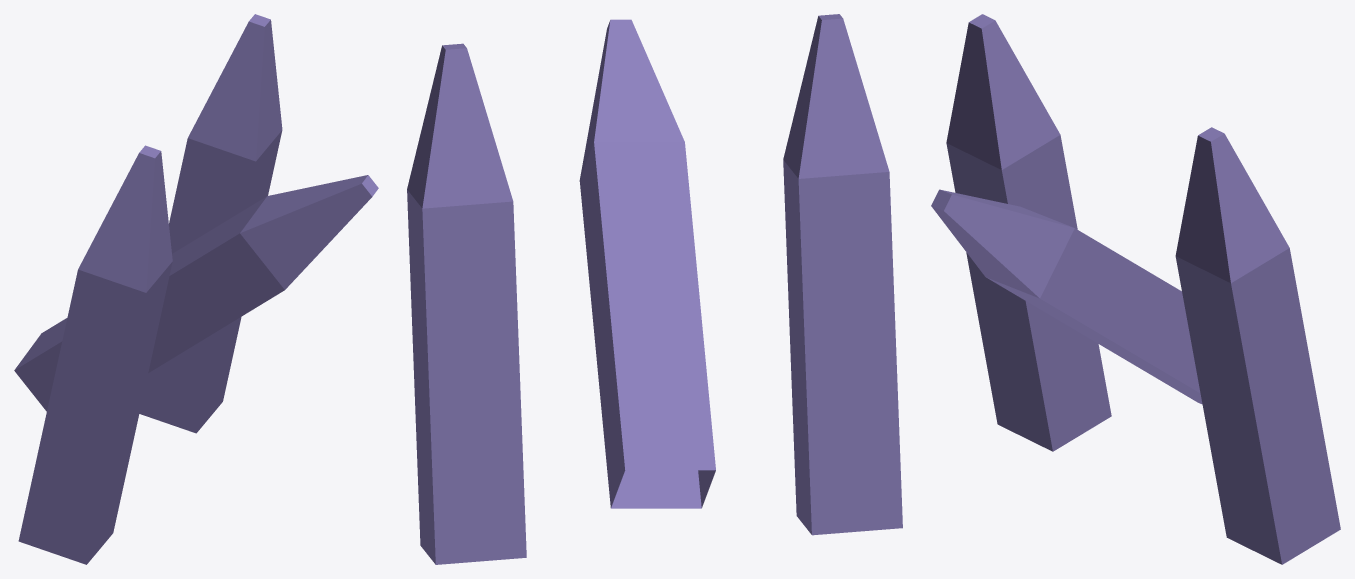
File: Spikes.fbx
3 views of the same model, side by side, from view 1: azimuth 30°, elevation 25°; view 2: azimuth 150°, elevation 25°; view 3: azimuth 270°, elevation 25° (orthographic). The views are drawn at different scales.
Visible parts, largest first — view 1: Spikes; view 2: Spikes; view 3: Spikes.
Part boxes in pixels (<box>): Spikes: <box>14,14,378,564</box>; Spikes: <box>407,14,902,564</box>; Spikes: <box>931,14,1340,564</box>.
Size of the model in its own units: 1.63 by 1.83 by 1.56.
